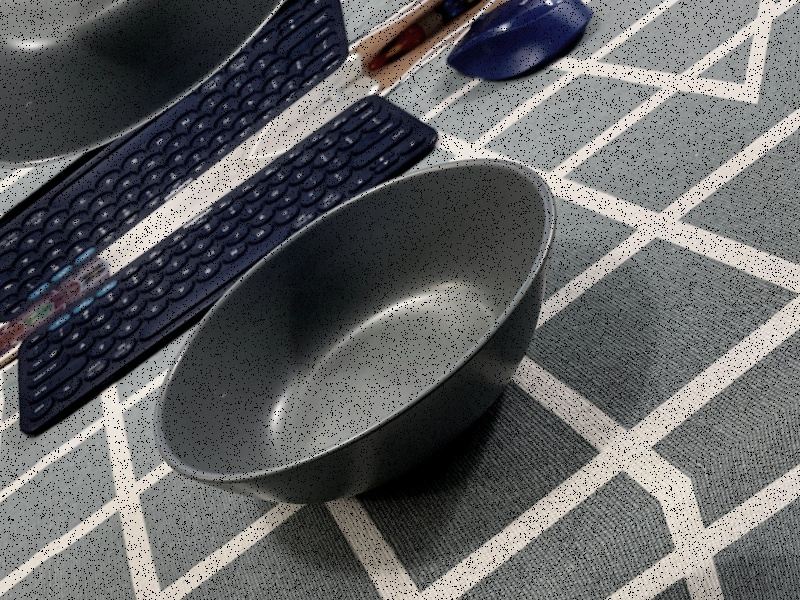bowl_big: (98, 81, 643, 599)
